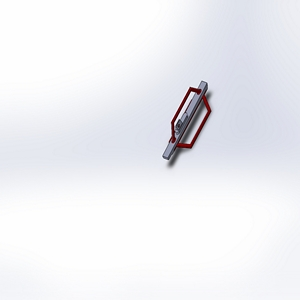submarine: (152, 75, 233, 177)
